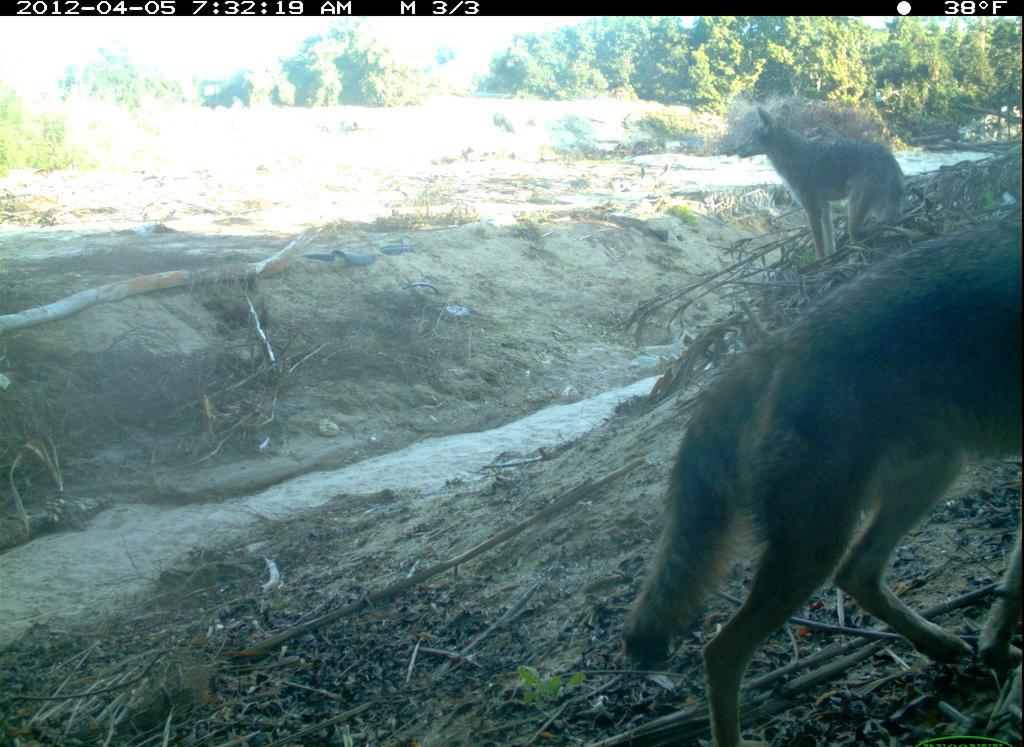coyote: (615, 200, 1022, 747), (726, 95, 925, 265)
